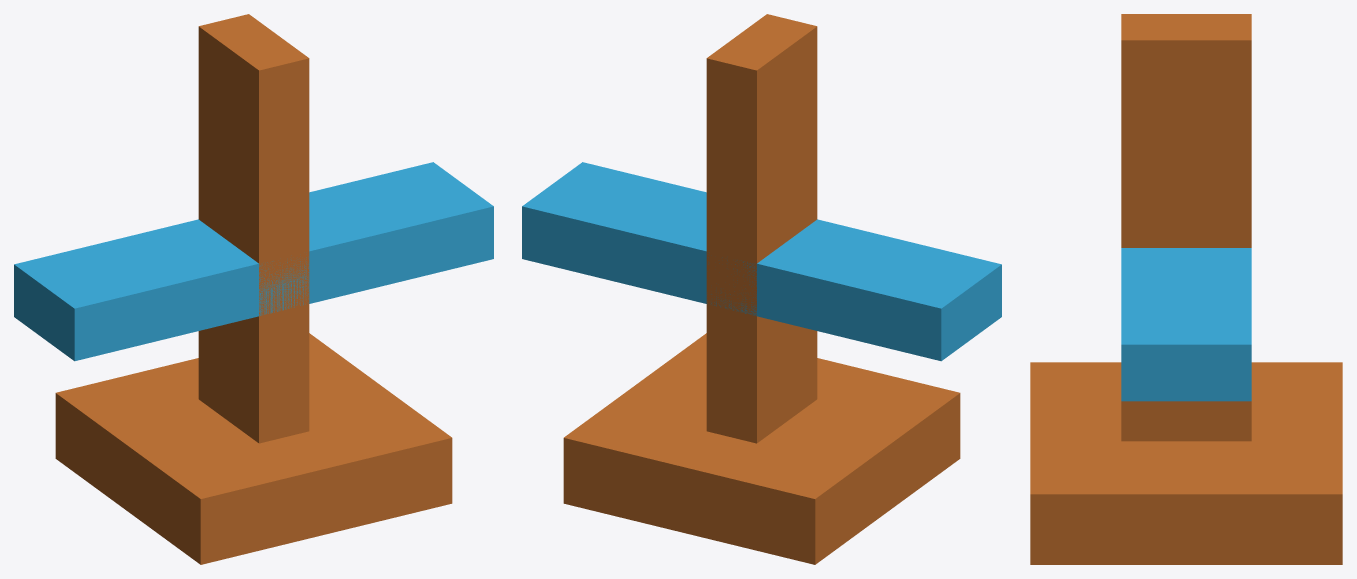
File: morph.glb
3 views of the same model, side by side, from view 1: azimuth 30°, elevation 25°; view 2: azimuth 150°, elevation 25°; view 3: azimuth 270°, elevation 25° (orthographic). The views are drawn at different scales.
Visible parts, largest first — view 1: part (×3); view 2: part (×3); view 3: part (×3).
Part boxes in pixels (x1,y1,x2,y2): part (×3): (14, 14, 493, 564); part (×3): (522, 14, 1001, 564); part (×3): (1030, 14, 1342, 564).
Bounding box in the file's own units: 2 × 2 × 1.2.
